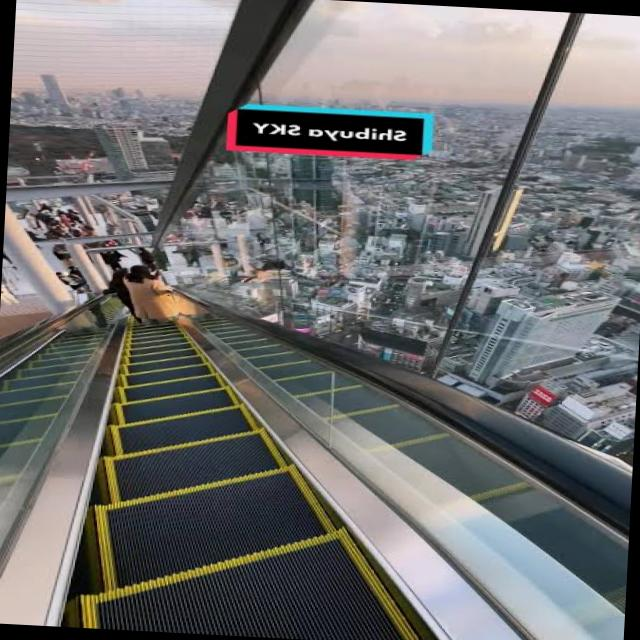escalator: (0, 259, 634, 640)
